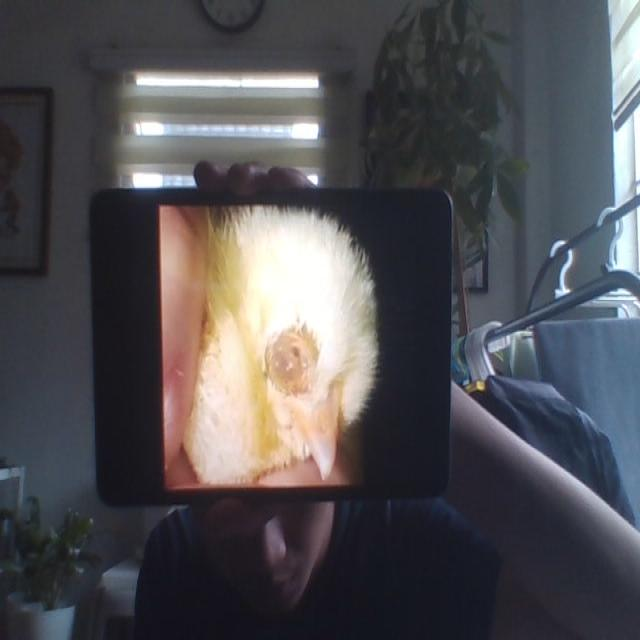Sick: (179, 205, 376, 489)
